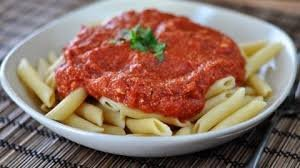curry: (128, 25, 166, 63)
sushi: (7, 0, 298, 162)
